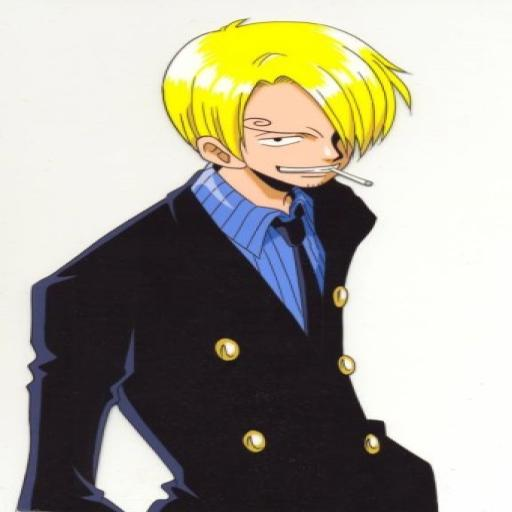sanji: (161, 12, 424, 197)
